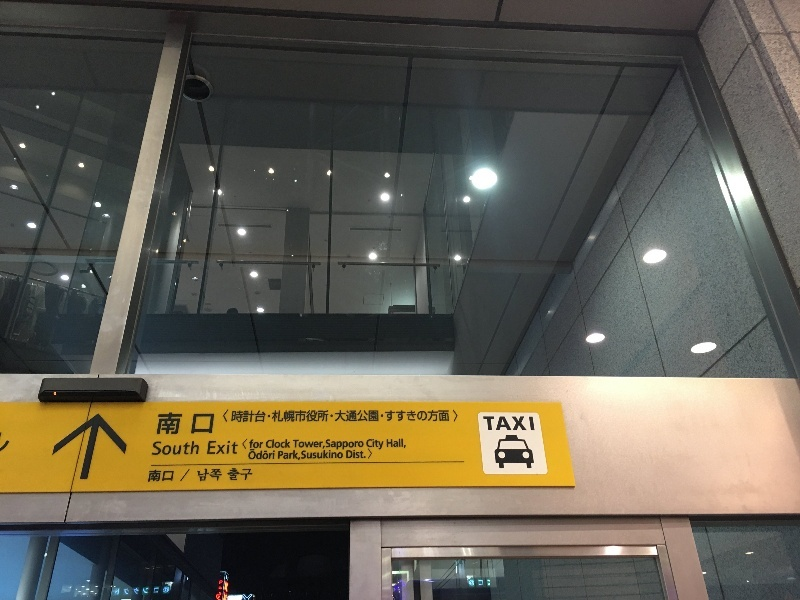text: (161, 412, 176, 435), (177, 412, 192, 435), (193, 412, 208, 435), (161, 440, 176, 457), (177, 440, 192, 457), (209, 441, 224, 455), (497, 417, 512, 431), (513, 417, 528, 431), (209, 469, 223, 484), (225, 441, 239, 455), (337, 410, 352, 423), (353, 410, 368, 423), (385, 409, 400, 422), (401, 409, 416, 422), (417, 409, 432, 422), (433, 409, 448, 422), (161, 470, 175, 483), (483, 417, 496, 431), (241, 468, 254, 482), (369, 438, 384, 450), (241, 411, 256, 423), (273, 410, 288, 422), (289, 410, 304, 422), (305, 410, 320, 422), (452, 408, 464, 423), (337, 439, 352, 450), (209, 412, 216, 435), (229, 468, 240, 482), (273, 439, 288, 449), (149, 470, 160, 483), (181, 469, 192, 482), (242, 440, 256, 450), (305, 440, 320, 449), (305, 450, 320, 459), (321, 450, 336, 459), (199, 469, 208, 484), (129, 588, 144, 597), (387, 439, 400, 449), (369, 410, 379, 423), (145, 588, 159, 597), (353, 439, 364, 450), (289, 451, 301, 461), (353, 450, 366, 459), (326, 439, 336, 450), (257, 411, 266, 423), (116, 588, 128, 597), (154, 440, 160, 457), (193, 440, 199, 457), (278, 451, 288, 461), (219, 579, 224, 599), (293, 440, 304, 449), (529, 417, 536, 431), (232, 411, 240, 423), (321, 410, 329, 422), (225, 579, 229, 599), (249, 439, 256, 448), (257, 439, 264, 448), (266, 439, 272, 449), (225, 409, 229, 423), (337, 450, 343, 459), (401, 439, 406, 449), (347, 450, 352, 459), (321, 440, 325, 449), (369, 448, 372, 459), (159, 412, 160, 435), (289, 439, 291, 449), (302, 450, 304, 459), (223, 409, 224, 423), (335, 410, 336, 423), (449, 409, 450, 422)
